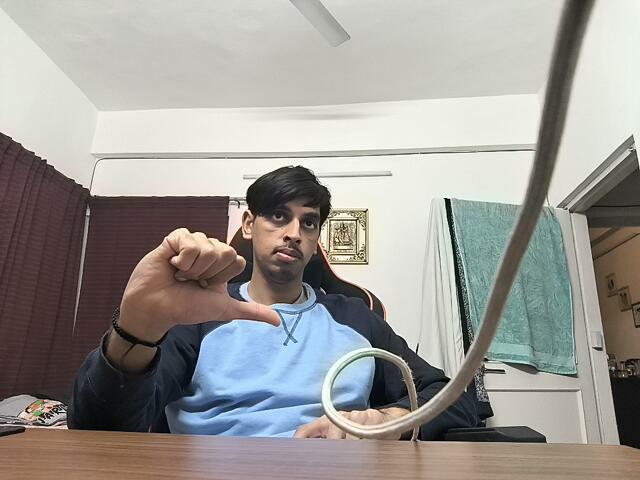LEFT: (138, 229, 287, 350)
